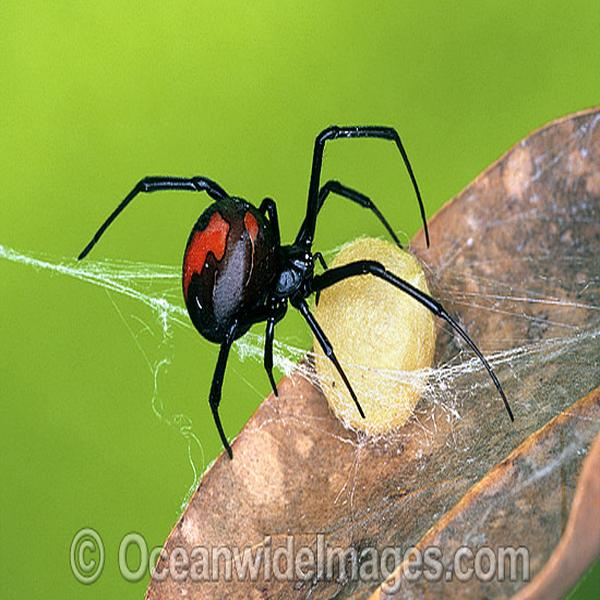Redback_Spider: (78, 124, 515, 457)
